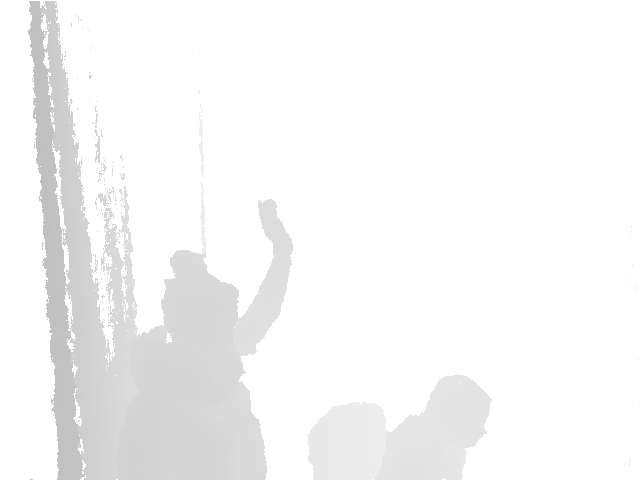hand: (253, 197, 295, 248)
head: (156, 248, 242, 367), (425, 374, 492, 448)
person: (127, 198, 297, 480), (383, 375, 491, 480)
